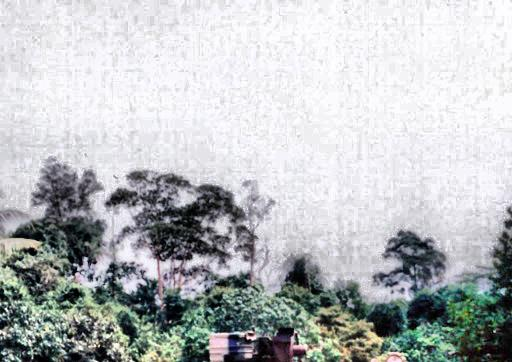tanks: (211, 329, 307, 362), (389, 357, 405, 362)
